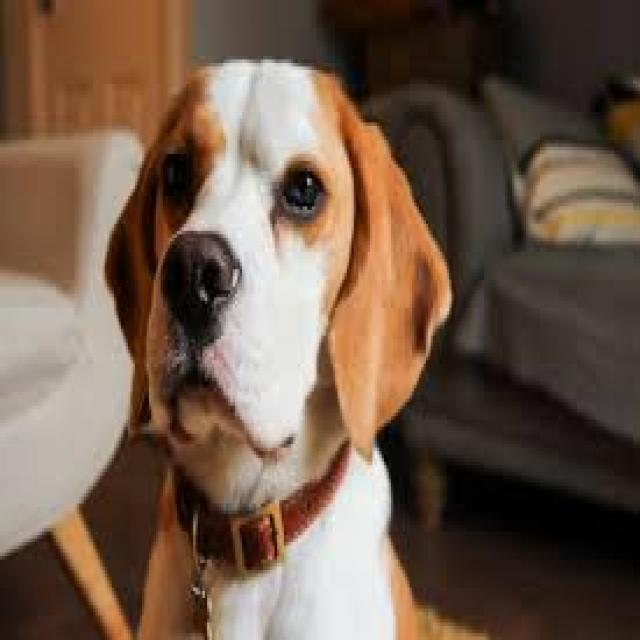Dog: (0, 51, 458, 640)
